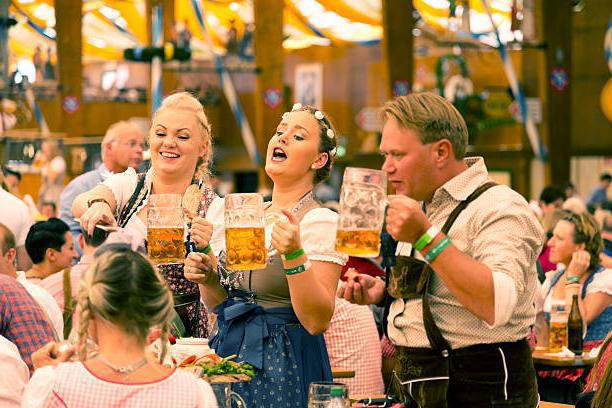Drunk: (379, 121, 433, 197), (265, 117, 320, 178), (152, 108, 197, 175)
